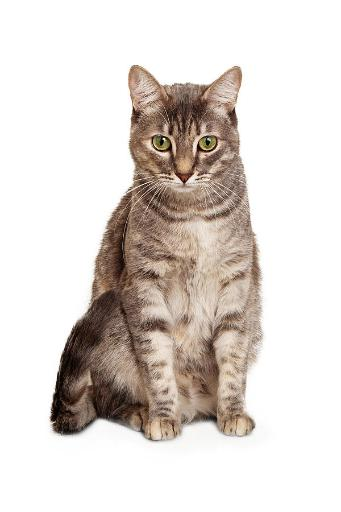cat_sitting: (51, 65, 262, 440)
